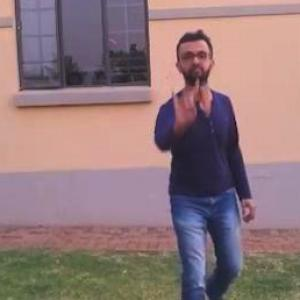takeoff-hand: (159, 78, 208, 146)
